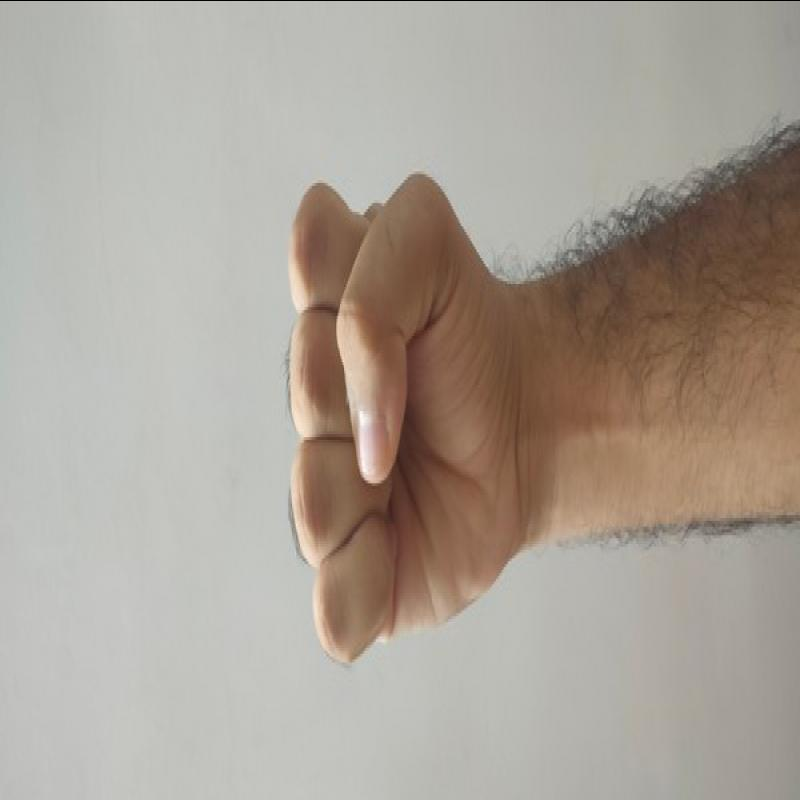Mushti: (247, 166, 517, 676)
